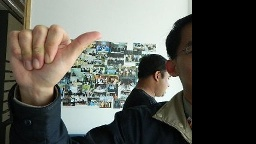Pugno: (3, 20, 104, 90)
